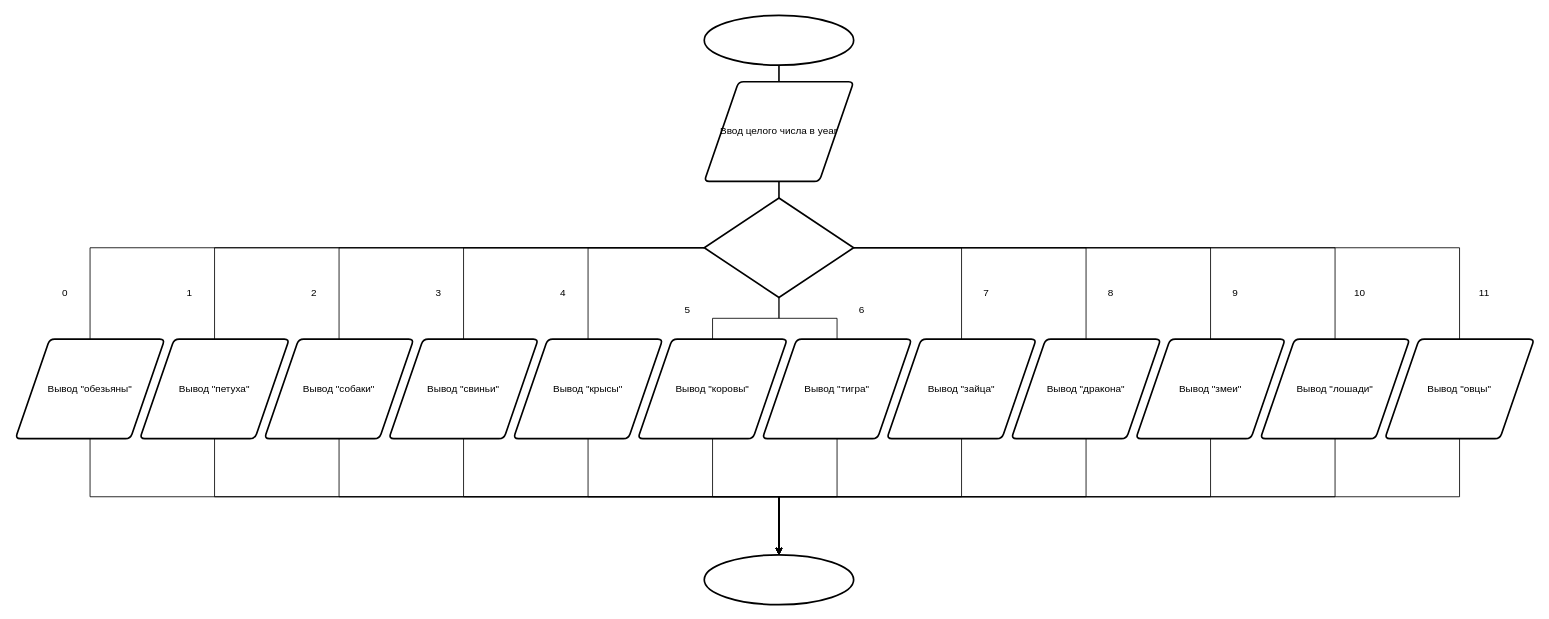
This 1549x619 diagram has some shape labels left out. The shapes that lost their labels are listed below. From the top down, each one's centre as x and y in pixels, then its label:
At (x=778, y=40): "Начало".
At (x=778, y=247): "year % 12".
At (x=778, y=579): "Конец".
